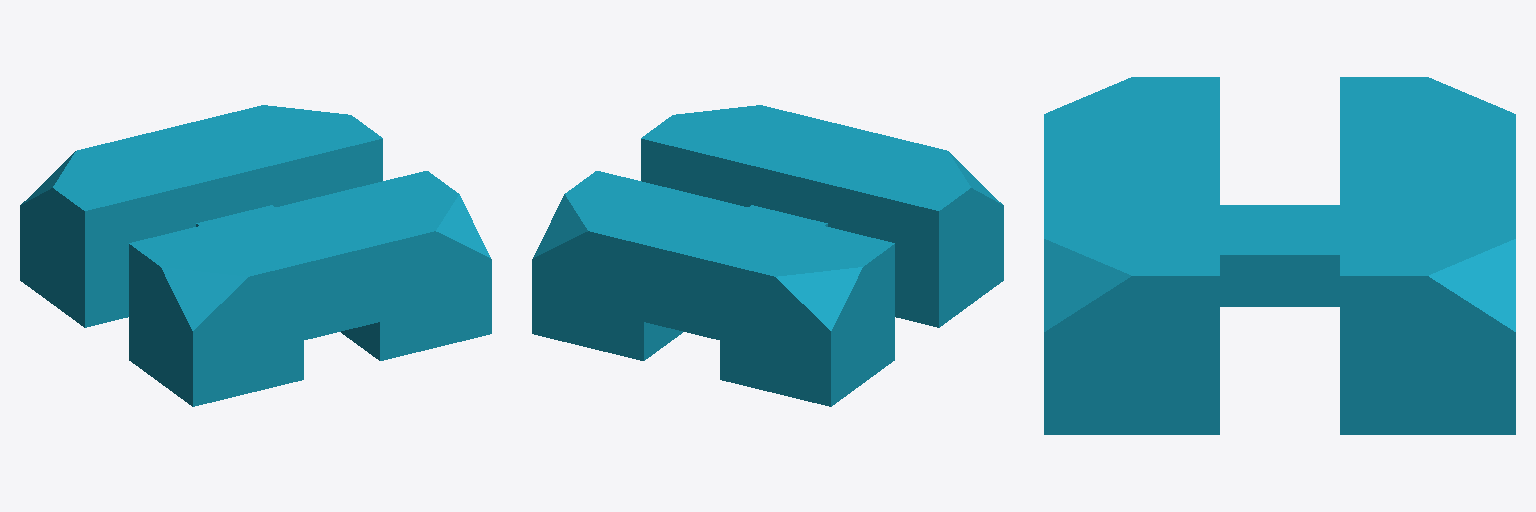
The robot description file, URDF, robot "obj_2":
<robot name="obj_2" version="1.0">
  <link name="obj_2">
    <collision name="interlocking-puzzle-1-2-collision.001">
      <origin rpy="0.00000 0.00000 0.00000" xyz="-0.40143 0.49427 0.52211"/>
      <geometry>
        <mesh filename="../meshes/obj/interlocking-puzzle-1-2-collision.001.obj" scale="2.09740 2.09740 2.09740"/>
      </geometry>
    </collision>
    <collision name="interlocking-puzzle-1-2-collision.002">
      <origin rpy="0.00000 0.00000 0.00000" xyz="-0.22013 0.69154 0.43666"/>
      <geometry>
        <mesh filename="../meshes/obj/interlocking-puzzle-1-2-collision.002.obj" scale="2.09740 2.09740 2.09740"/>
      </geometry>
    </collision>
    <collision name="interlocking-puzzle-1-2-collision.003">
      <origin rpy="0.00000 0.00000 0.00000" xyz="-0.41734 0.31180 0.55324"/>
      <geometry>
        <mesh filename="../meshes/obj/interlocking-puzzle-1-2-collision.003.obj" scale="2.09740 2.09740 2.09740"/>
      </geometry>
    </collision>
    <collision name="interlocking-puzzle-1-2-collision.004">
      <origin rpy="0.00000 0.00000 0.00000" xyz="-0.41734 0.67679 0.55324"/>
      <geometry>
        <mesh filename="../meshes/obj/interlocking-puzzle-1-2-collision.004.obj" scale="2.09740 2.09740 2.09740"/>
      </geometry>
    </collision>
    <collision name="interlocking-puzzle-1-2-collision.005">
      <origin rpy="0.00000 0.00000 0.00000" xyz="-0.62760 0.30572 0.44106"/>
      <geometry>
        <mesh filename="../meshes/obj/interlocking-puzzle-1-2-collision.005.obj" scale="2.09740 2.09741 2.08984"/>
      </geometry>
    </collision>
    <collision name="interlocking-puzzle-1-2-collision.006">
      <origin rpy="0.00000 0.00000 0.00000" xyz="-0.62760 0.68289 0.44106"/>
      <geometry>
        <mesh filename="../meshes/obj/interlocking-puzzle-1-2-collision.006.obj" scale="2.09740 2.09740 2.08984"/>
      </geometry>
    </collision>
    <collision name="interlocking-puzzle-1-2-collision.007">
      <origin rpy="0.00000 0.00000 0.00000" xyz="-0.22013 0.29707 0.43666"/>
      <geometry>
        <mesh filename="../meshes/obj/interlocking-puzzle-1-2-collision.007.obj" scale="2.09740 2.09740 2.09740"/>
      </geometry>
    </collision>
    <inertial>
      <inertia ixx="0.00516" ixy="0.00000" ixz="-0.00000" iyy="0.00466" iyz="-0.00000" izz="0.00872"/>
      <origin rpy="0.00000 0.00000 0.00000" xyz="-0.41734 0.49431 0.52049"/>
      <mass value="0.03000"/>
    </inertial>
    <visual name="interlocking-puzzle-1-2">
      <material name="Light Blue"/>
      <origin rpy="3.14159 0.00000 3.14159" xyz="-0.41734 0.49431 0.50346"/>
      <geometry>
        <mesh filename="../meshes/obj/interlocking-puzzle-1.001.obj" scale="0.01049 0.01049 0.01049"/>
      </geometry>
    </visual>
  </link>
  <material name="Light Blue">
    <color rgba="0.15294 0.68627 0.80000 1.00000"/>
  </material>
</robot>

--- Facts derived from the render (not from the file) ---
The picture shows the robot from 3 angles, left to right: view 1: azimuth 30°, elevation 25°; view 2: azimuth 150°, elevation 25°; view 3: azimuth 270°, elevation 25°; orthographic projection.
Robot: obj_2 — 1 links, 0 joints (none); root link obj_2; default pose: every joint at zero.
Links seen in each view (by area): view 1: obj_2; view 2: obj_2; view 3: obj_2.
Boxes of the visible links, box(x1,y1,x2,y2) form: obj_2: box(20, 105, 491, 406); obj_2: box(532, 105, 1003, 406); obj_2: box(1044, 77, 1515, 434).
Bounding box of the posed robot: 0.6294 × 0.6294 × 0.2348 m (x, y, z).
Meshes: 1 distinct files referenced, 1 mesh visuals loaded (1 OBJ).